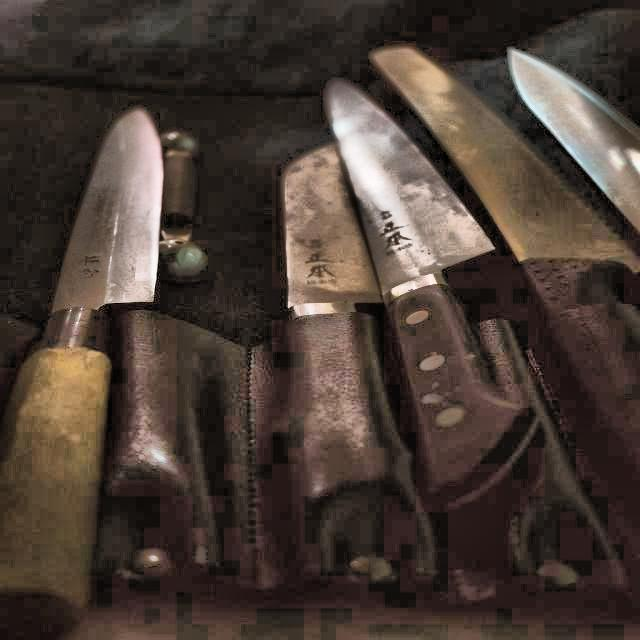knife: (378, 42, 640, 366), (326, 70, 502, 525), (62, 106, 206, 585), (276, 138, 386, 582), (511, 42, 640, 236)
